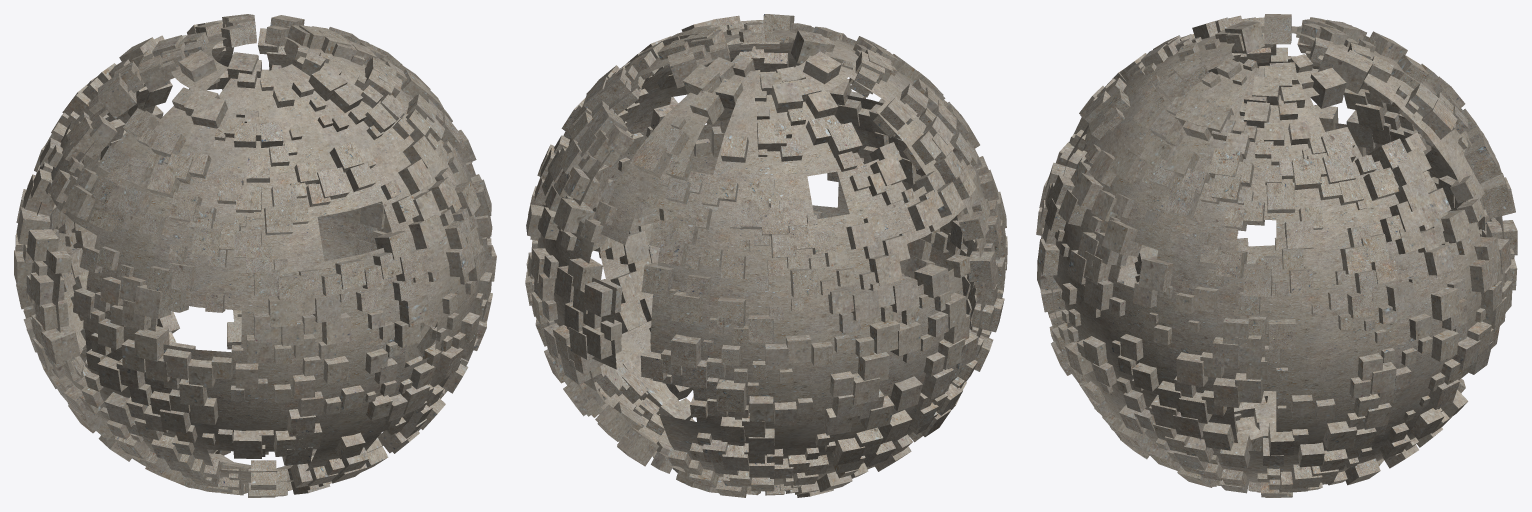
The model's file is sphere_cubes.fbx.
3 renders of one model, left to right at view 1: azimuth 30°, elevation 25°; view 2: azimuth 150°, elevation 25°; view 3: azimuth 270°, elevation 25°, orthographic.
Visible parts, largest first — view 1: Cube.882, Sphere; view 2: Cube.882, Sphere; view 3: Cube.882, Sphere.
Part boxes in pixels (x1,y1,x2,y2): Cube.882: [14, 14, 496, 497]; Sphere: [31, 33, 483, 484]; Cube.882: [525, 14, 1007, 497]; Sphere: [537, 29, 986, 484]; Cube.882: [1036, 14, 1517, 497]; Sphere: [1051, 26, 1504, 482].
Size of the model in its own units: 107 by 106 by 106.
